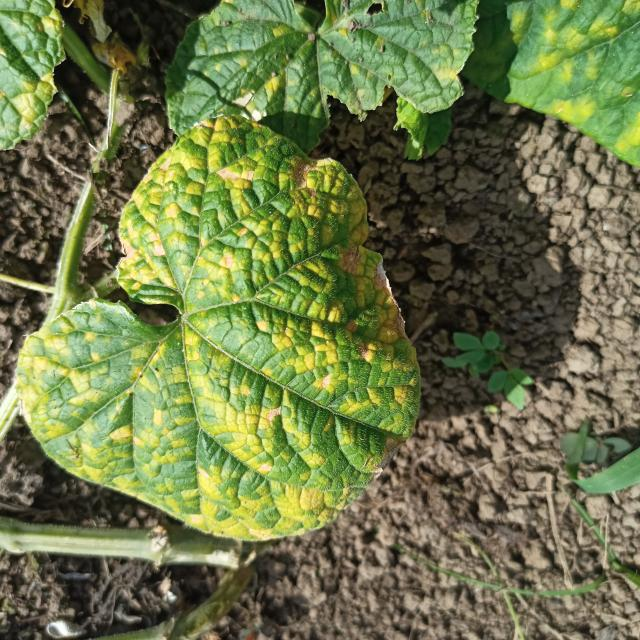disease_cucumber: (22, 130, 407, 528)
